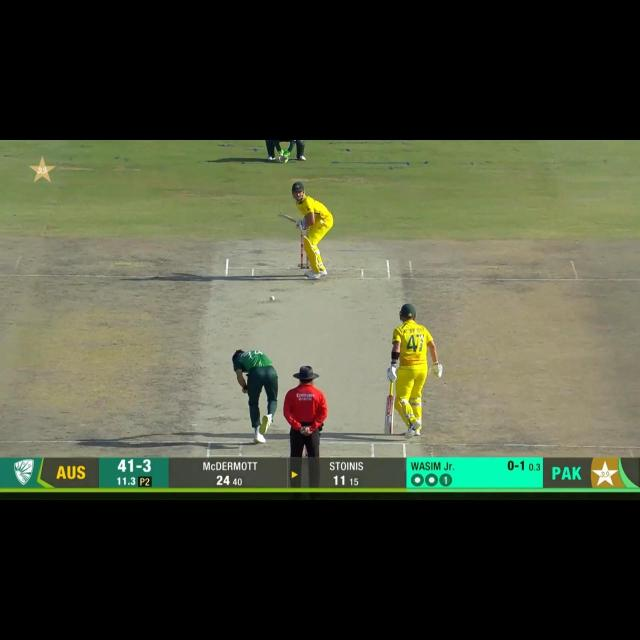bat: (381, 395, 398, 435), (272, 210, 302, 225)
toe: (379, 425, 398, 436), (274, 210, 286, 221)
